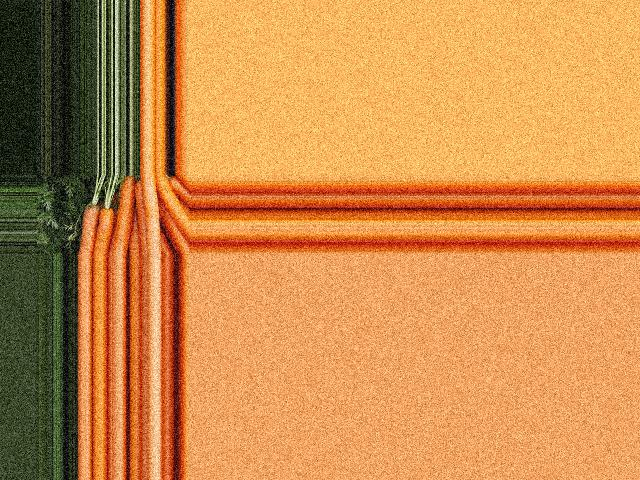carrot: (158, 176, 189, 237)
